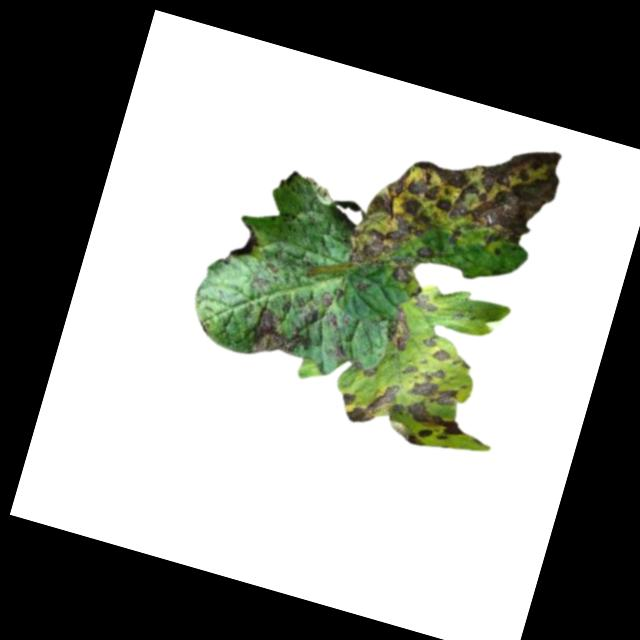Early_blight: (346, 103, 567, 305), (247, 295, 318, 369), (386, 394, 469, 456), (336, 369, 400, 431), (395, 357, 467, 411), (380, 303, 418, 355), (229, 222, 263, 263), (419, 333, 454, 364), (410, 291, 441, 317), (389, 265, 414, 288), (329, 340, 349, 363), (319, 290, 336, 310), (324, 314, 341, 329)
